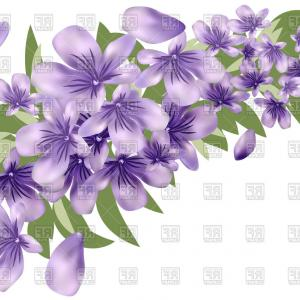violet: (132, 36, 230, 118), (33, 30, 125, 102), (23, 114, 99, 186), (98, 95, 170, 156), (92, 151, 168, 203), (191, 17, 243, 60), (237, 59, 273, 98), (228, 9, 270, 38)
